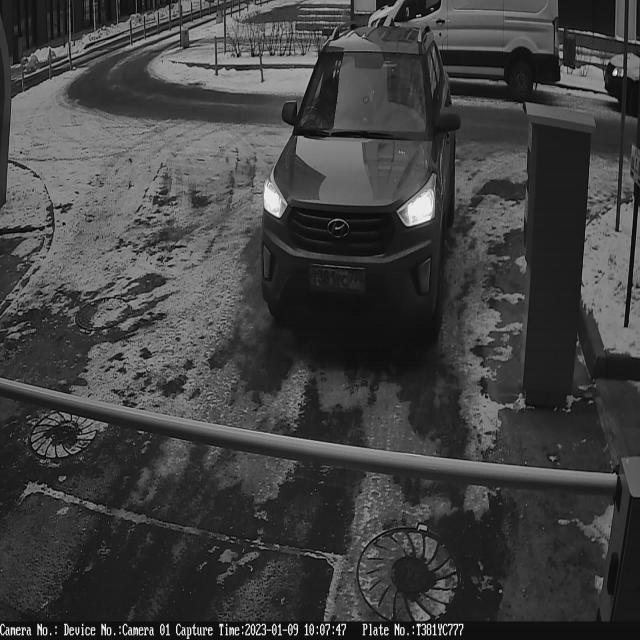car-plate-numbers: (307, 261, 369, 302)
